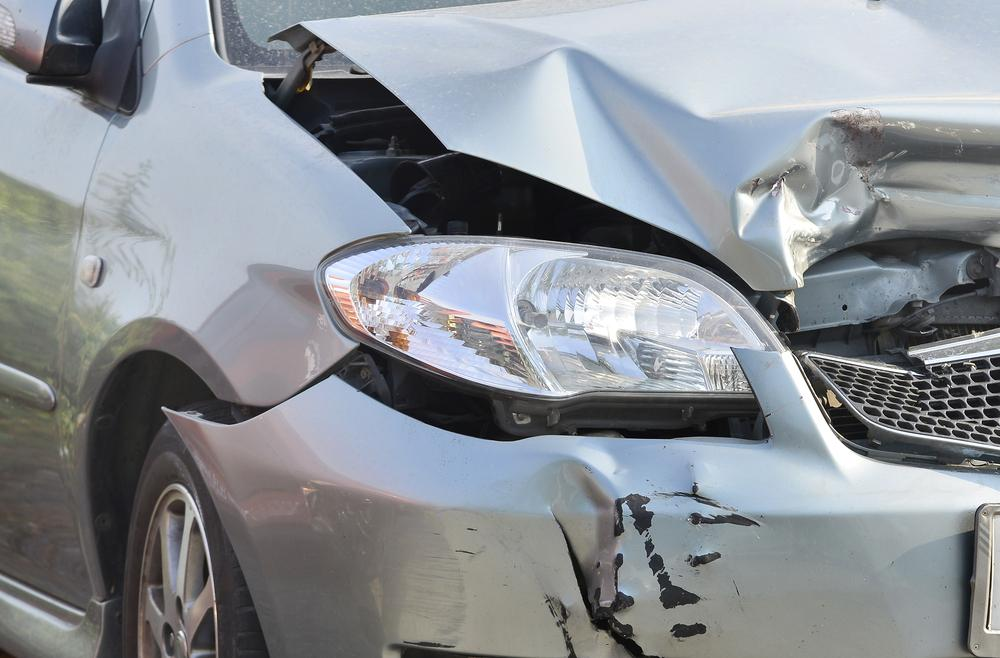crack: (548, 509, 663, 658)
dent: (522, 0, 1000, 286), (548, 455, 619, 609)
scratch: (602, 485, 770, 652), (388, 515, 492, 650), (540, 594, 581, 658)
